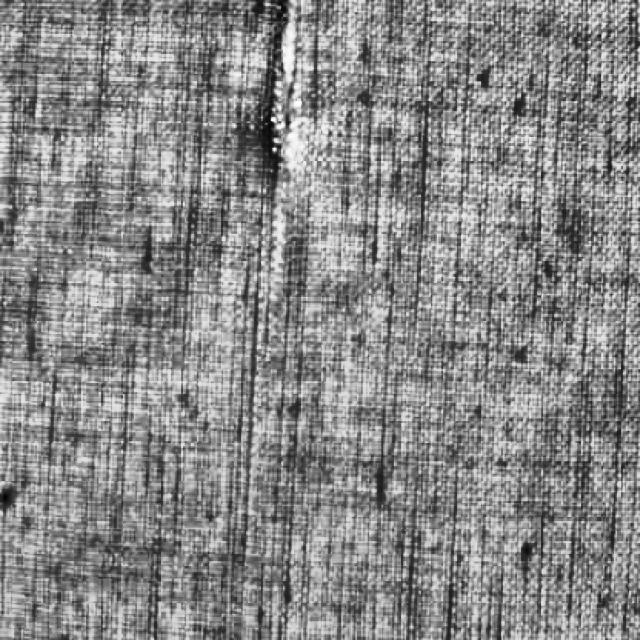thread_error: (233, 0, 330, 326)
